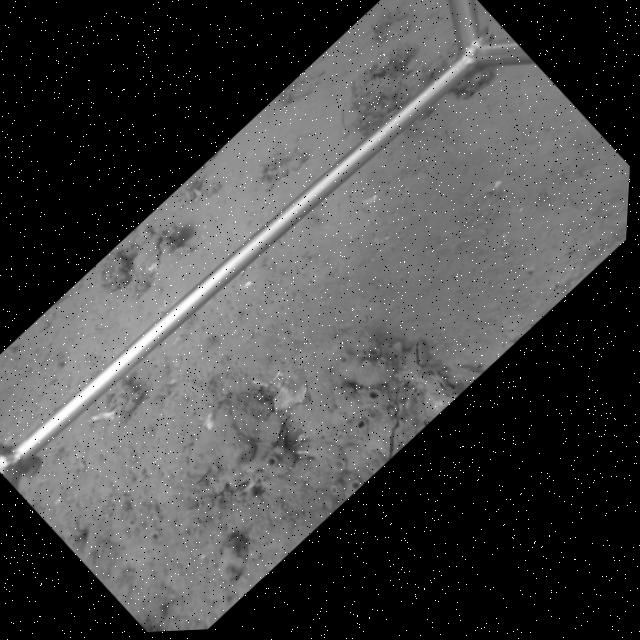Oyster-Closed: (373, 381, 411, 461)
